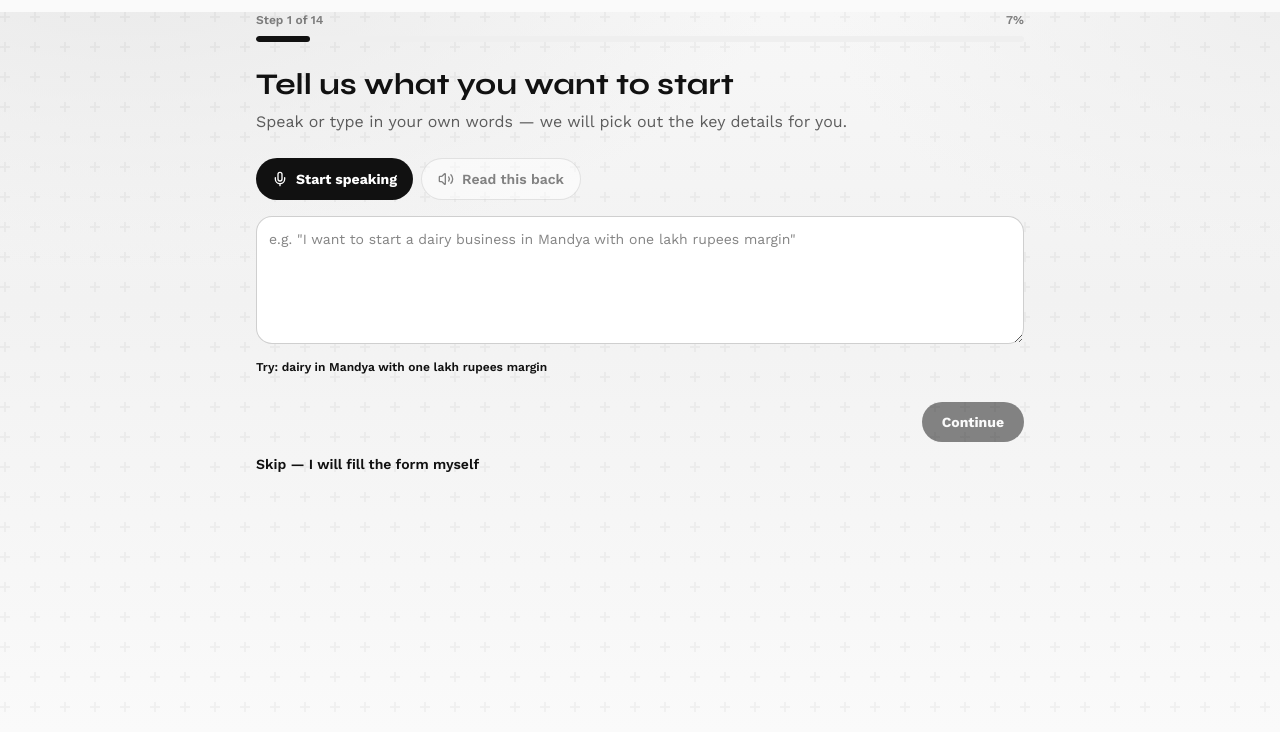
Scenario: VoicePage — SpeechRecognition unsupported/error handling › maps SpeechRecognitionErrorEvent.error=network to apply.voice.error.network
Step 1. Click the button "Start speaking" → (335, 179), box [256, 158, 413, 200]
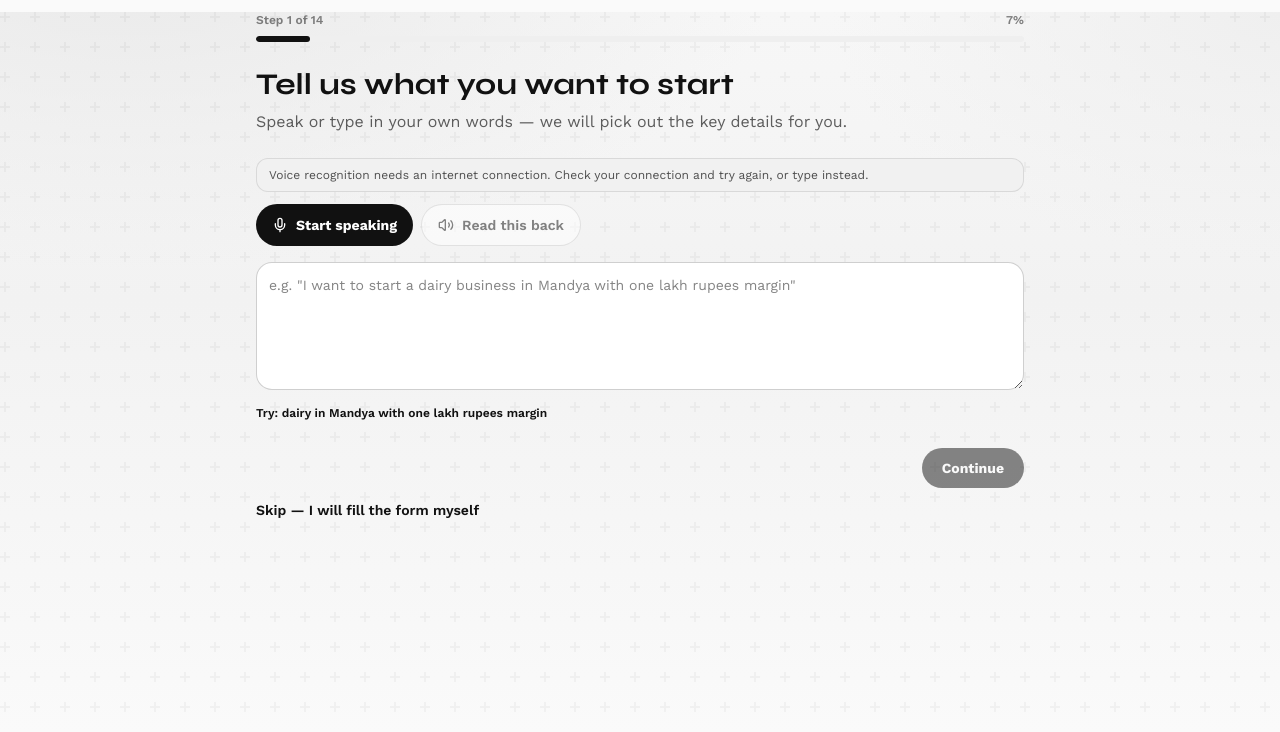
Check: the message shows "Voice recognition needs an internet connection. Check your connection and try again, or type instead.", box [269, 168, 868, 182]
